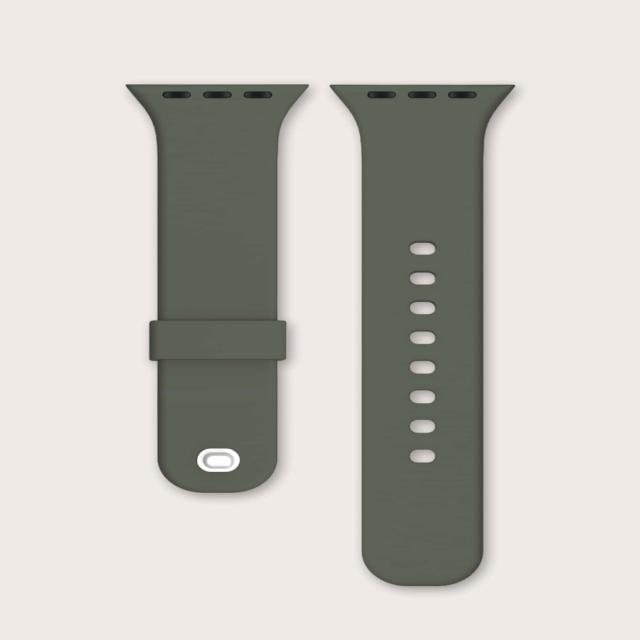bracelet: (80, 44, 298, 526)
